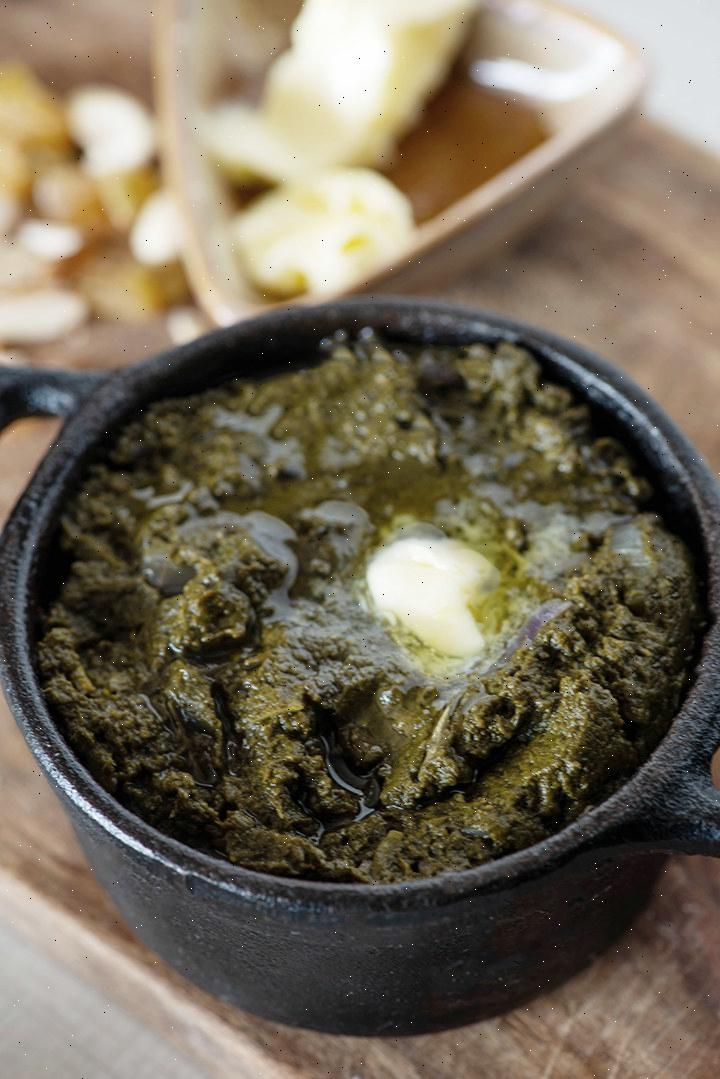saag: (40, 354, 710, 897)
